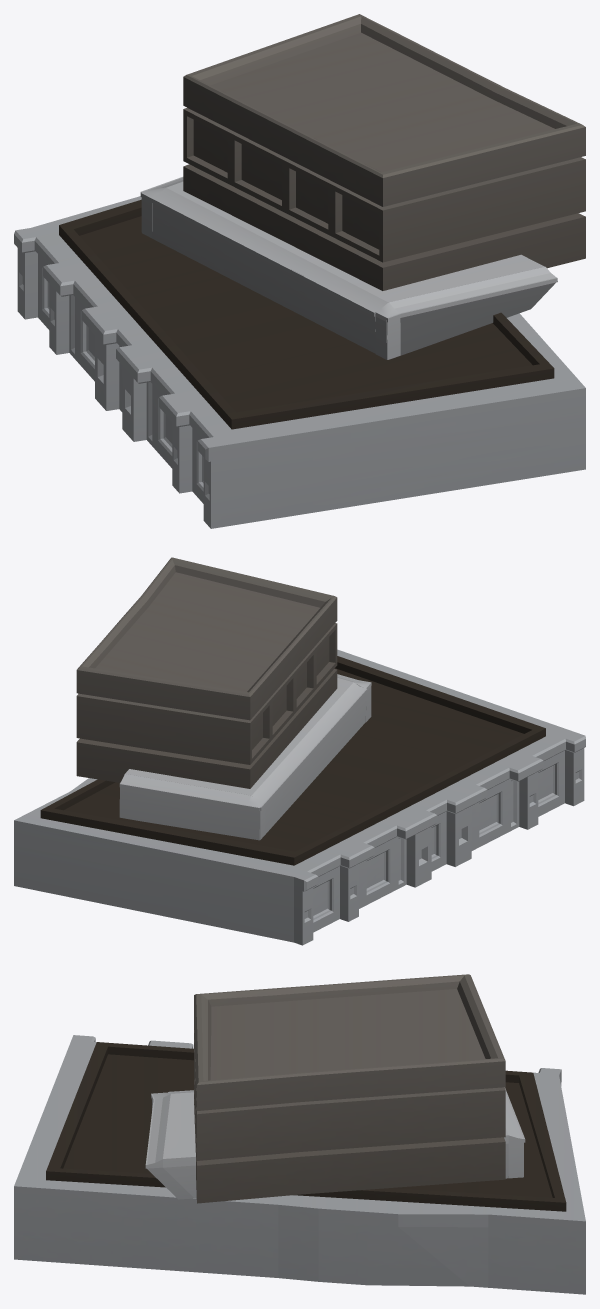
Rendered from monumentoPrincipio 1.fbx.
3 views of the same model, one above another, from view 1: azimuth 30°, elevation 25°; view 2: azimuth 150°, elevation 25°; view 3: azimuth 270°, elevation 25° (orthographic). The views are drawn at different scales.
Parts seen in each view (by area): view 1: arribaRecto2_pCube1347; view 2: arribaRecto2_pCube1347; view 3: arribaRecto2_pCube1347.
Part boxes in pixels (bbox=[...]): arribaRecto2_pCube1347: bbox=[14, 14, 585, 528]; arribaRecto2_pCube1347: bbox=[14, 557, 585, 945]; arribaRecto2_pCube1347: bbox=[14, 974, 585, 1294].
Bounding box in the file's own units: 1372 × 719 × 1687.
